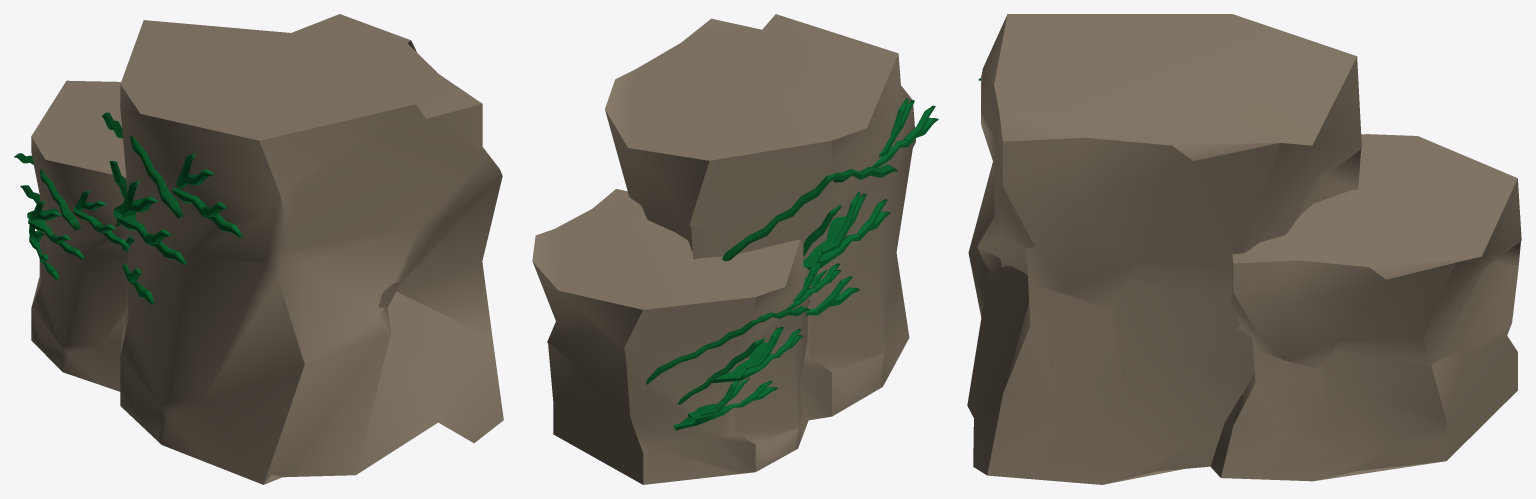
The model's file is tworock.fbx.
3 views of the same model, side by side, from view 1: azimuth 30°, elevation 25°; view 2: azimuth 150°, elevation 25°; view 3: azimuth 270°, elevation 25° (orthographic). The views are drawn at different scales.
Visible parts, largest first — view 1: pPlane17; view 2: pPlane17; view 3: pPlane17.
Boxes of the visible parts, x1=… form: pPlane17: x1=14, y1=14, x2=503, y2=484; pPlane17: x1=532, y1=14, x2=938, y2=484; pPlane17: x1=967, y1=14, x2=1521, y2=484.
Bounding box in the file's own units: 9.69 × 10.9 × 15.03.
